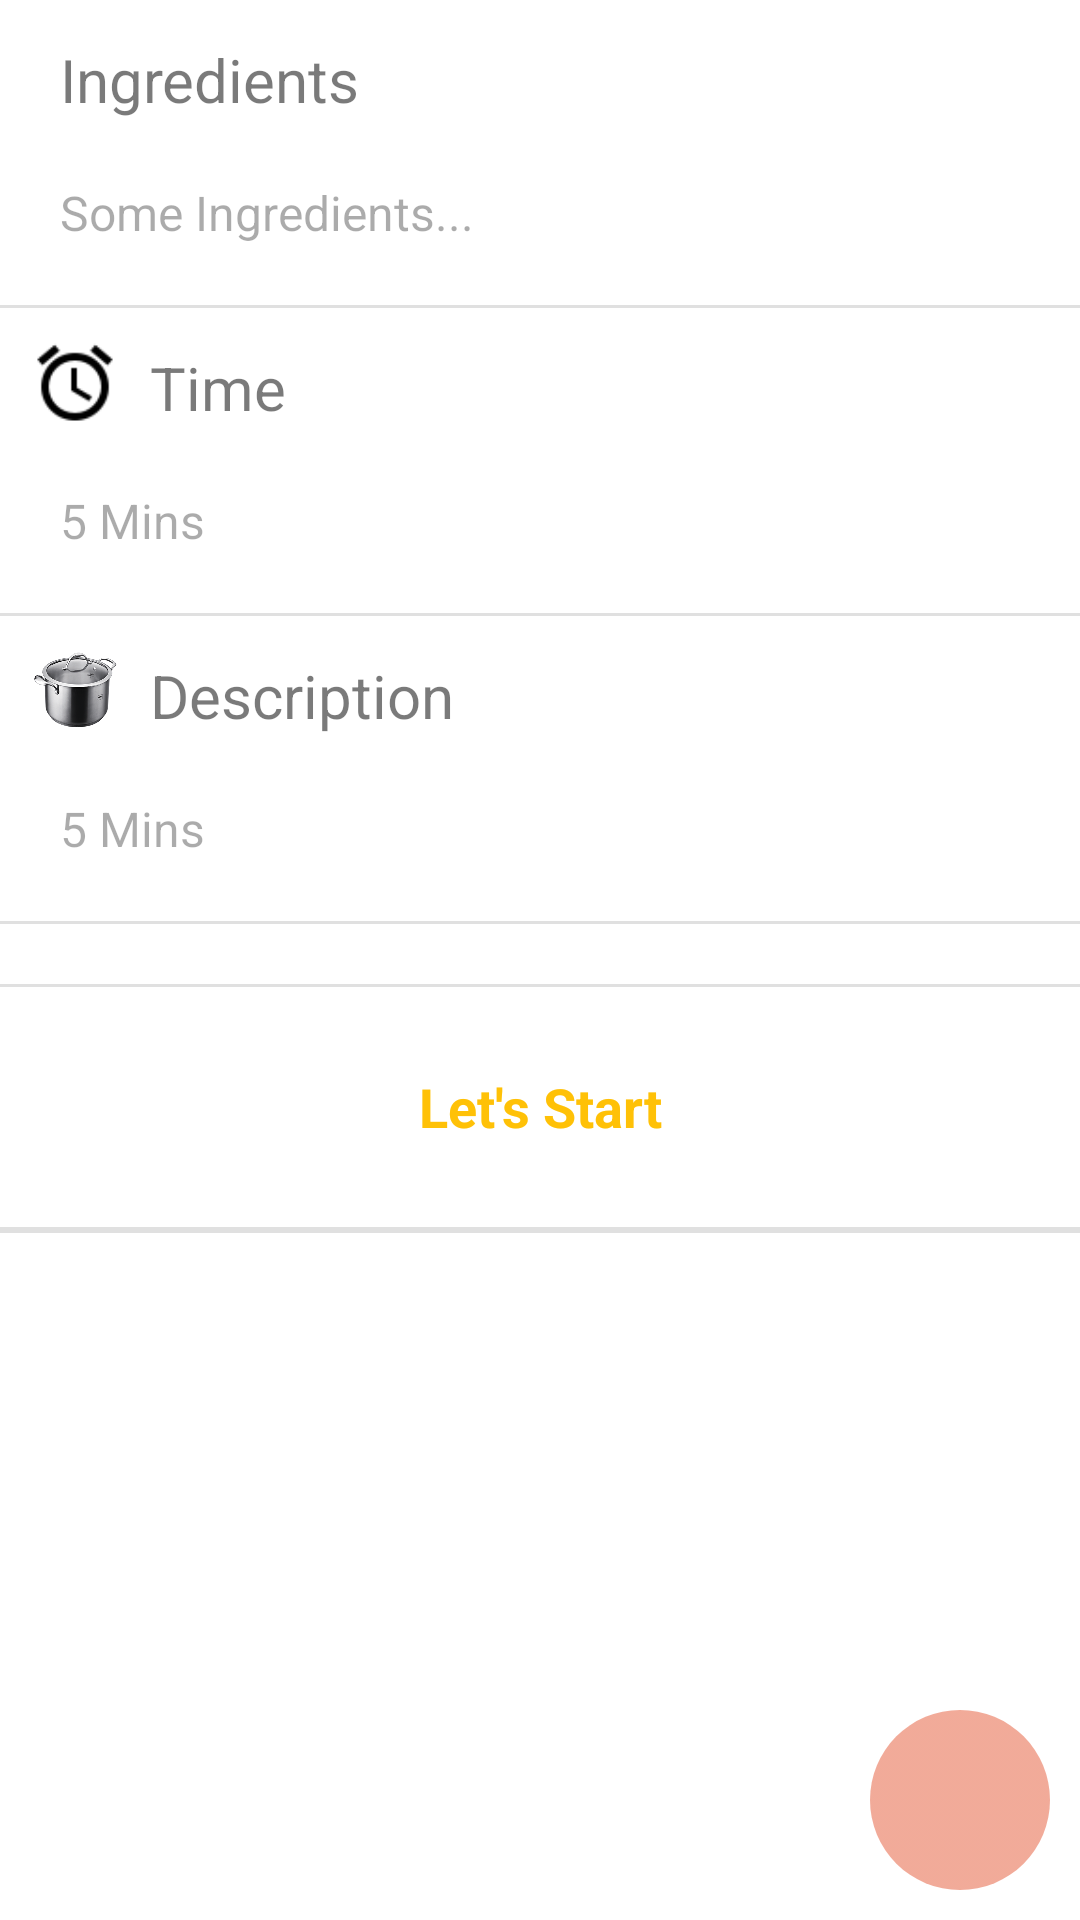

Screen size 1080x1920. Icon name, then its center in pixels as (x,y):
alarm: (75,383)
pot: (75,690)
